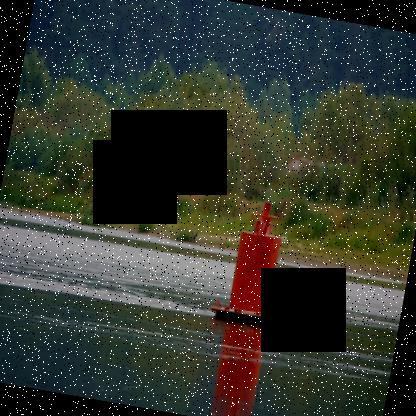Buoy: (208, 202, 306, 332)
